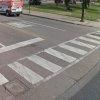Crosswalk: (12, 28, 100, 100)
